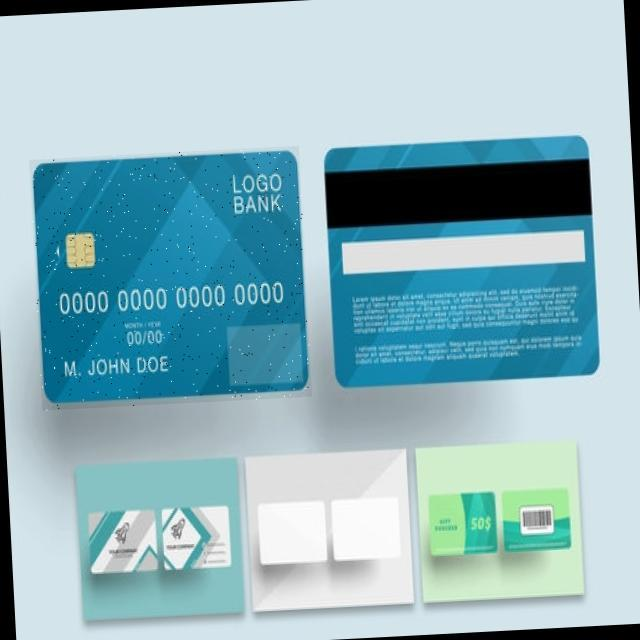payment_card: (31, 148, 309, 407), (324, 135, 600, 386)
